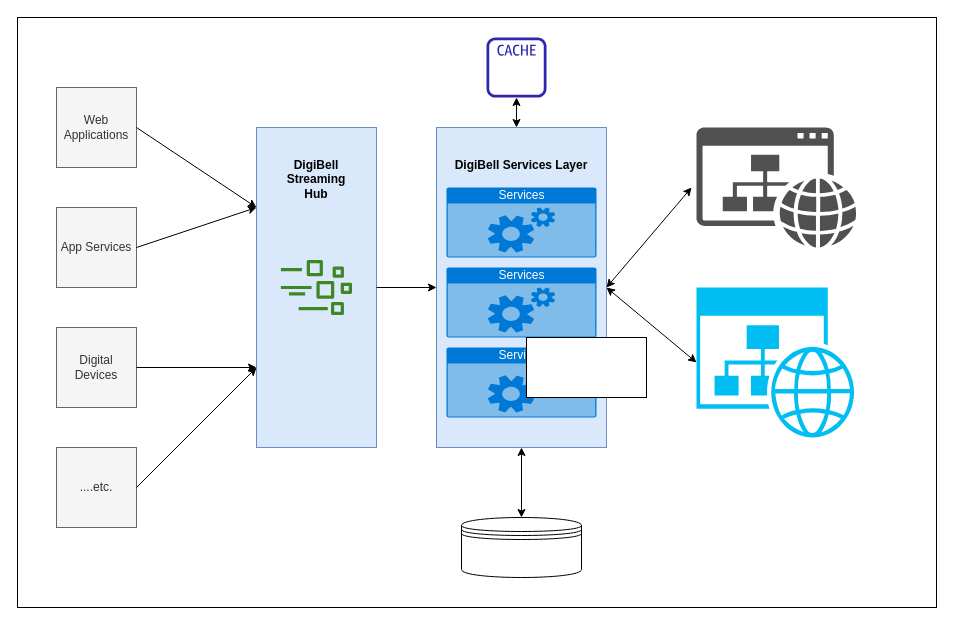
The diagram is 954 pixels wide and 625 high, and some of its shapes have lost their labels. The shapes that lost their labels are listed below. From the top down, each one's centre as x and y in pixels, then its label:
the point at 776,187: Monitoring Dashboard
the point at 776,362: Report Dashboard
the point at 521,547: Datastore
